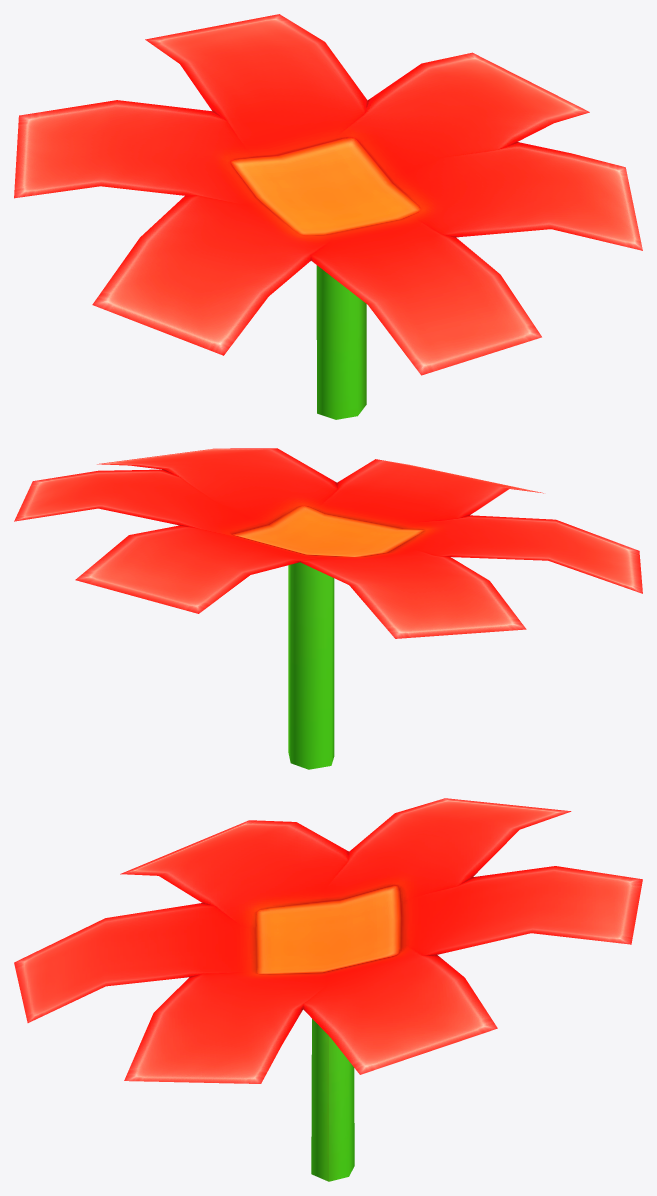
The model's file is SM_Flower_01_A.glb.
3 views of the same model, one above another, from view 1: azimuth 30°, elevation 25°; view 2: azimuth 150°, elevation 25°; view 3: azimuth 270°, elevation 25° (orthographic).
Parts seen in each view (by area): view 1: SM_Flower_01_A; view 2: SM_Flower_01_A; view 3: SM_Flower_01_A.
Boxes of the visible parts, <box> form: SM_Flower_01_A: <box>14,14,642,419</box>; SM_Flower_01_A: <box>14,448,642,769</box>; SM_Flower_01_A: <box>14,798,642,1181</box>.
Bounding box in the file's own units: 0.2057 × 0.0986 × 0.2007.
1 material, 1 textured.
